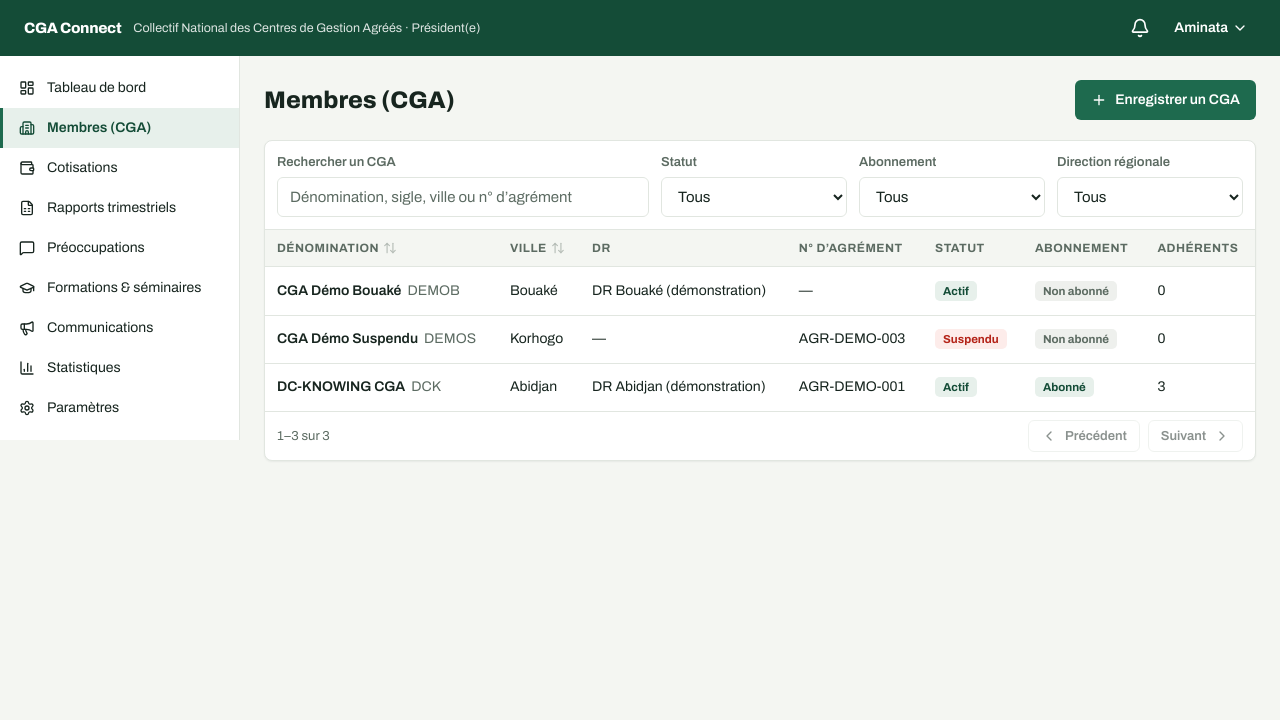
Test case: /cncga/membres · registre des CGA (F-ORG-01) › clic sur une ligne → fiche du CGA
Expected: the table named "Registre des CGA du réseau" is shown, x1=265 y1=230 x2=1255 y2=411
Click the row "CGA Démo Bouaké". click: (760, 291)
box: x1=265 y1=267 x2=1255 y2=315
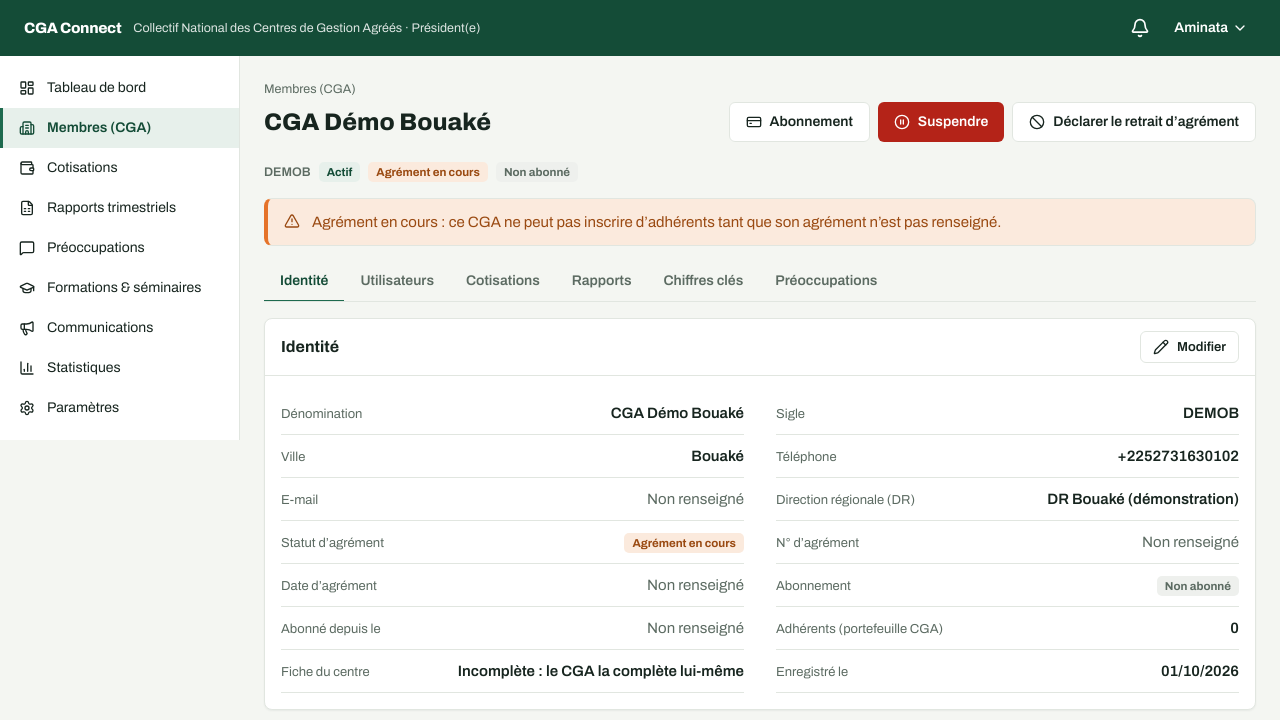
Expected: the heading "CGA Démo Bouaké" is shown, x1=264 y1=106 x2=491 y2=138
